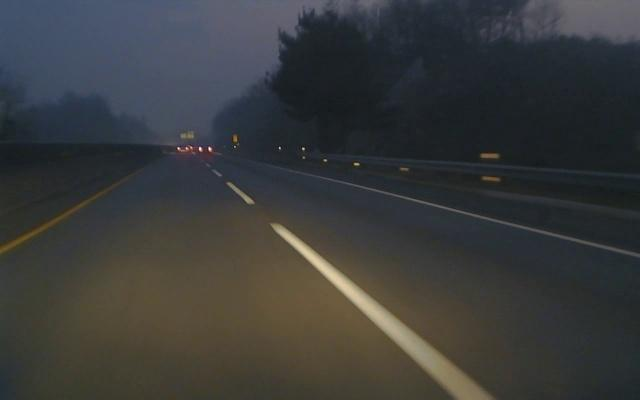lane: (217, 171, 497, 399), (286, 166, 639, 258), (1, 180, 127, 254)
